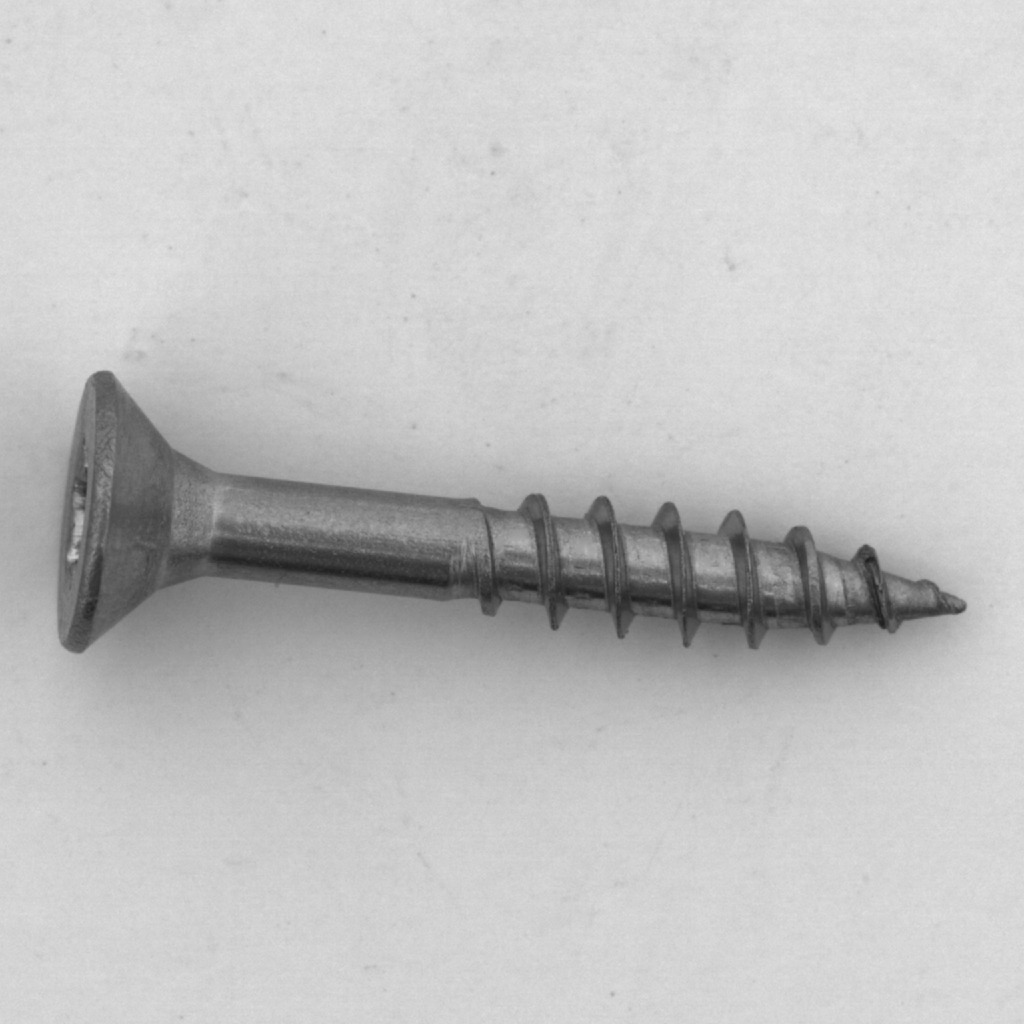good: (39, 358, 985, 675)
